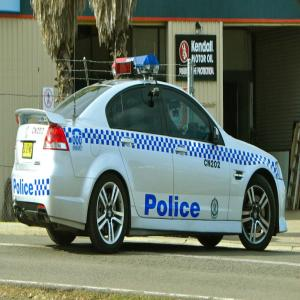Vehicle-registration-plate: (23, 141, 34, 158)
